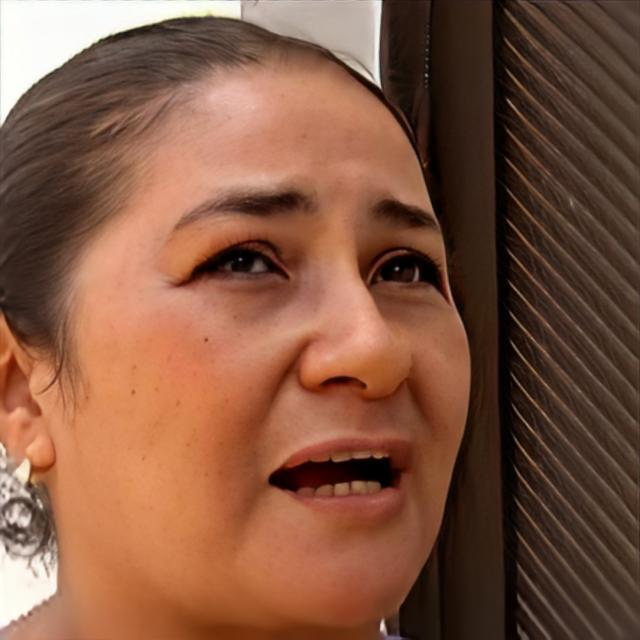sad: (56, 56, 472, 622)
